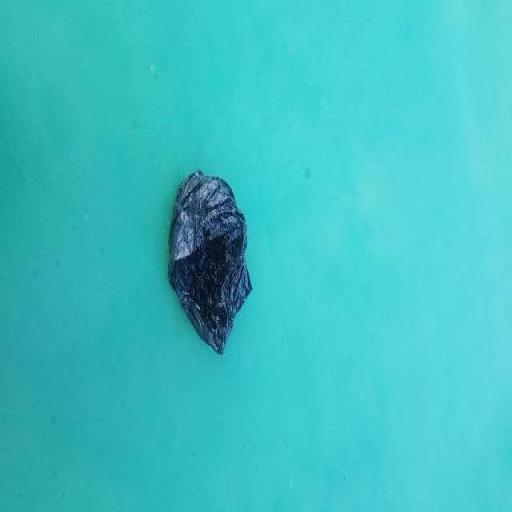plastic-bag: (168, 170, 254, 356)
